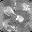people: (3, 6, 15, 17), (2, 18, 12, 28), (16, 15, 24, 23)
